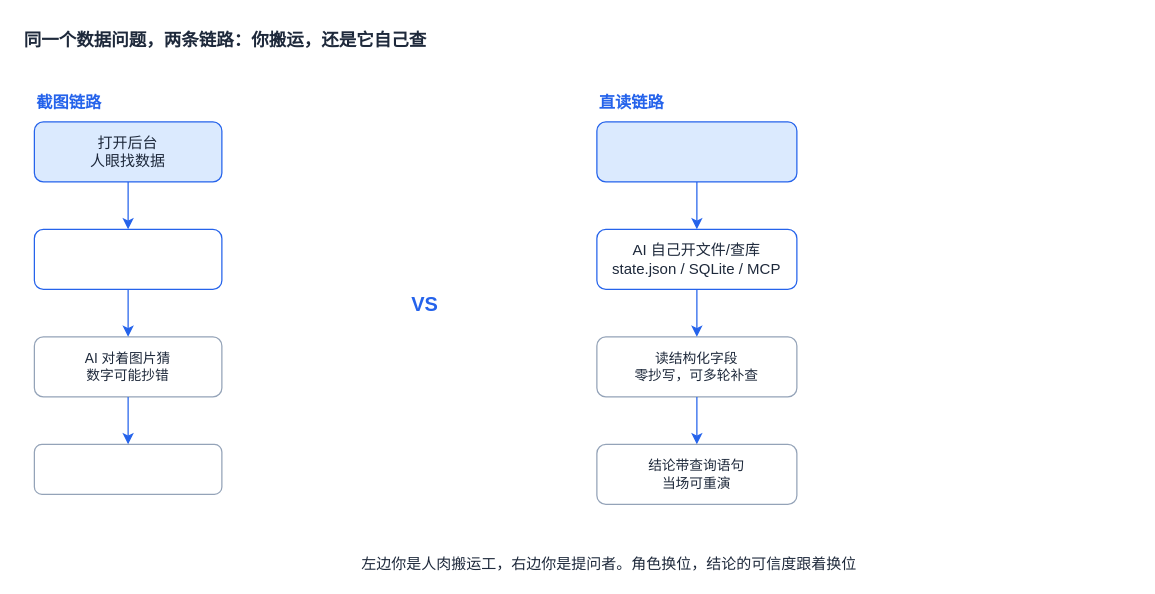
This 1155x594 diagram has some shape labels left out. The centre of each missing label's shape, as x and y in pixels:
"一句问题 「查清楚再回答我」" belongs at point 696,151.
"截图 → 粘贴 来回五六个回合" belongs at point 127,258.
"结论没法复核" belongs at point 127,468.
